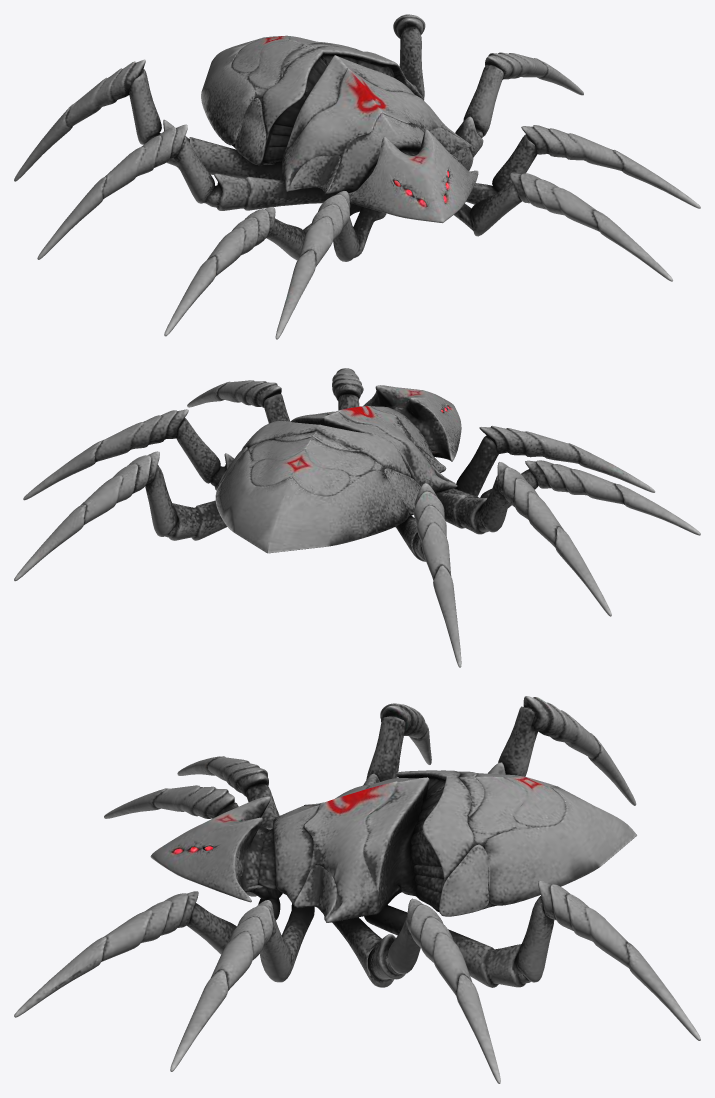
The model's file is MZ4250 - Retriever.glb.
3 renders of one model, top to bottom at view 1: azimuth 30°, elevation 25°; view 2: azimuth 150°, elevation 25°; view 3: azimuth 270°, elevation 25°, orthographic. The views are drawn at different scales.
Parts seen in each view (by area): view 1: ORGANIC BASE SPHERE.001; view 2: ORGANIC BASE SPHERE.001; view 3: ORGANIC BASE SPHERE.001.
Part boxes in pixels (<box>): ORGANIC BASE SPHERE.001: <box>14,14,700,339</box>; ORGANIC BASE SPHERE.001: <box>14,368,700,667</box>; ORGANIC BASE SPHERE.001: <box>14,696,700,1083</box>.
Bounding box in the file's own units: 1.16 × 0.2621 × 1.04.
Materials: 1 (1 with a texture image).
